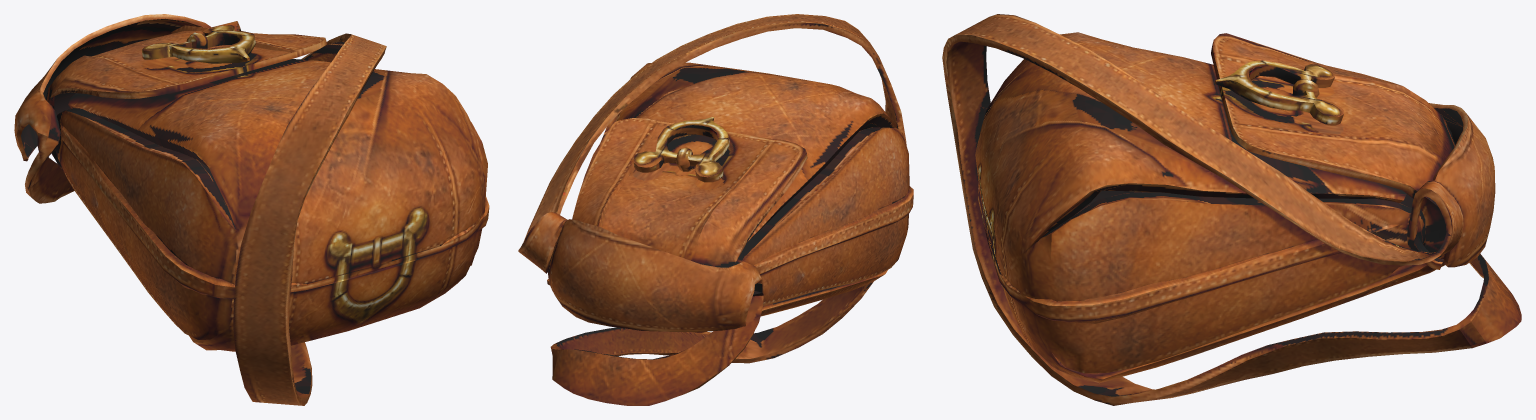
The model's file is item_pouch1.glb.
The picture shows the model from 3 angles, left to right: view 1: azimuth 30°, elevation 25°; view 2: azimuth 150°, elevation 25°; view 3: azimuth 270°, elevation 25°; orthographic projection. The views are drawn at different scales.
Visible parts, largest first — view 1: organic_pouch1; view 2: organic_pouch1; view 3: organic_pouch1.
Part boxes in pixels (x1,y1,x2,y2): organic_pouch1: (14, 14, 489, 405); organic_pouch1: (518, 14, 913, 405); organic_pouch1: (942, 14, 1521, 405).
Bounding box in the file's own units: 0.6804 × 0.7141 × 1.
Materials: 1 (1 with a texture image).
